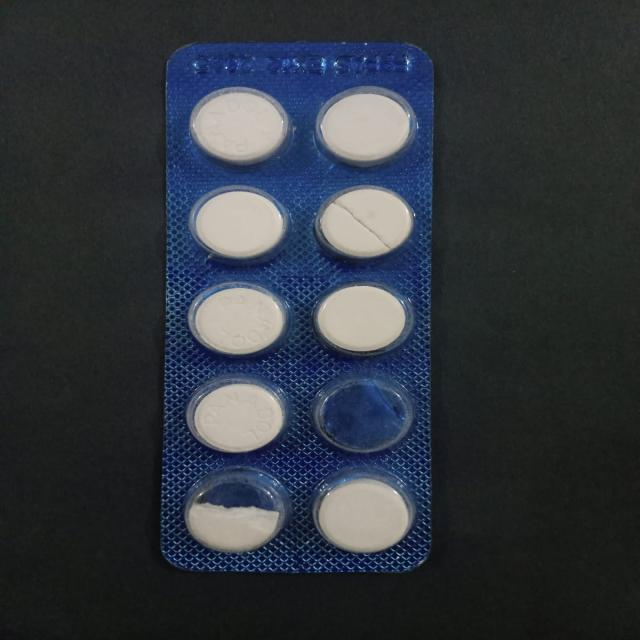defect: (177, 463, 298, 556), (309, 367, 420, 458), (312, 183, 418, 266)
